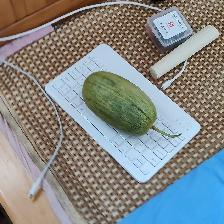gua: (84, 73, 160, 138)
